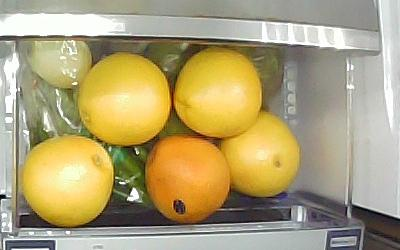grapefruit: (77, 51, 172, 145), (21, 134, 114, 226), (172, 45, 262, 137), (143, 133, 230, 222), (219, 110, 300, 197)
